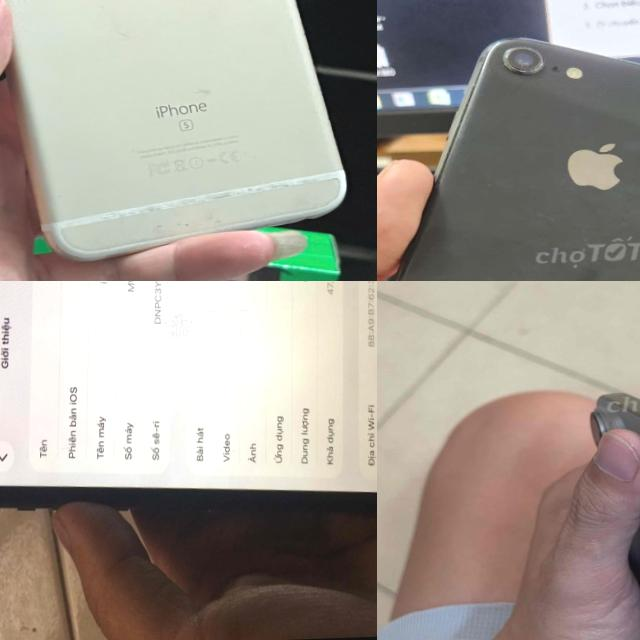scratch: (422, 76, 482, 188), (136, 210, 250, 238), (490, 38, 547, 76), (530, 210, 558, 227), (631, 110, 640, 118), (484, 178, 488, 190)
